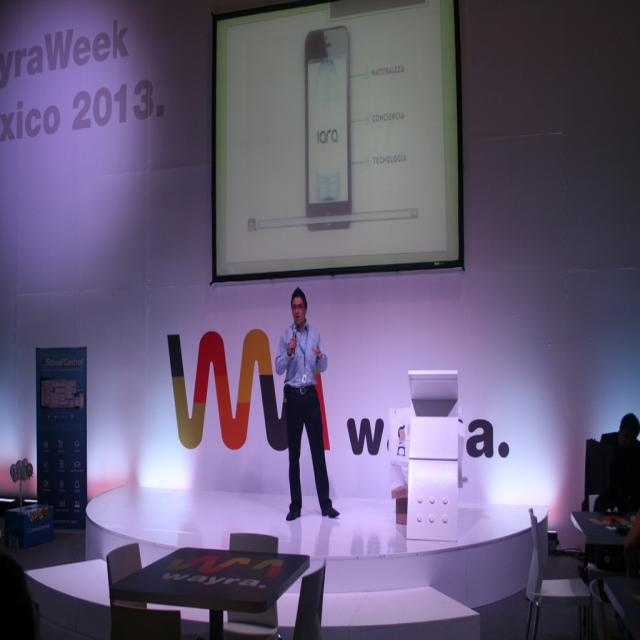chair: (526, 506, 592, 638), (106, 541, 180, 637), (227, 532, 277, 636), (290, 559, 326, 638), (227, 531, 279, 553)
desk: (33, 344, 86, 529)
person: (274, 287, 340, 523), (601, 412, 640, 514), (1, 551, 40, 637), (624, 508, 640, 578)
tv: (210, 2, 466, 282)
